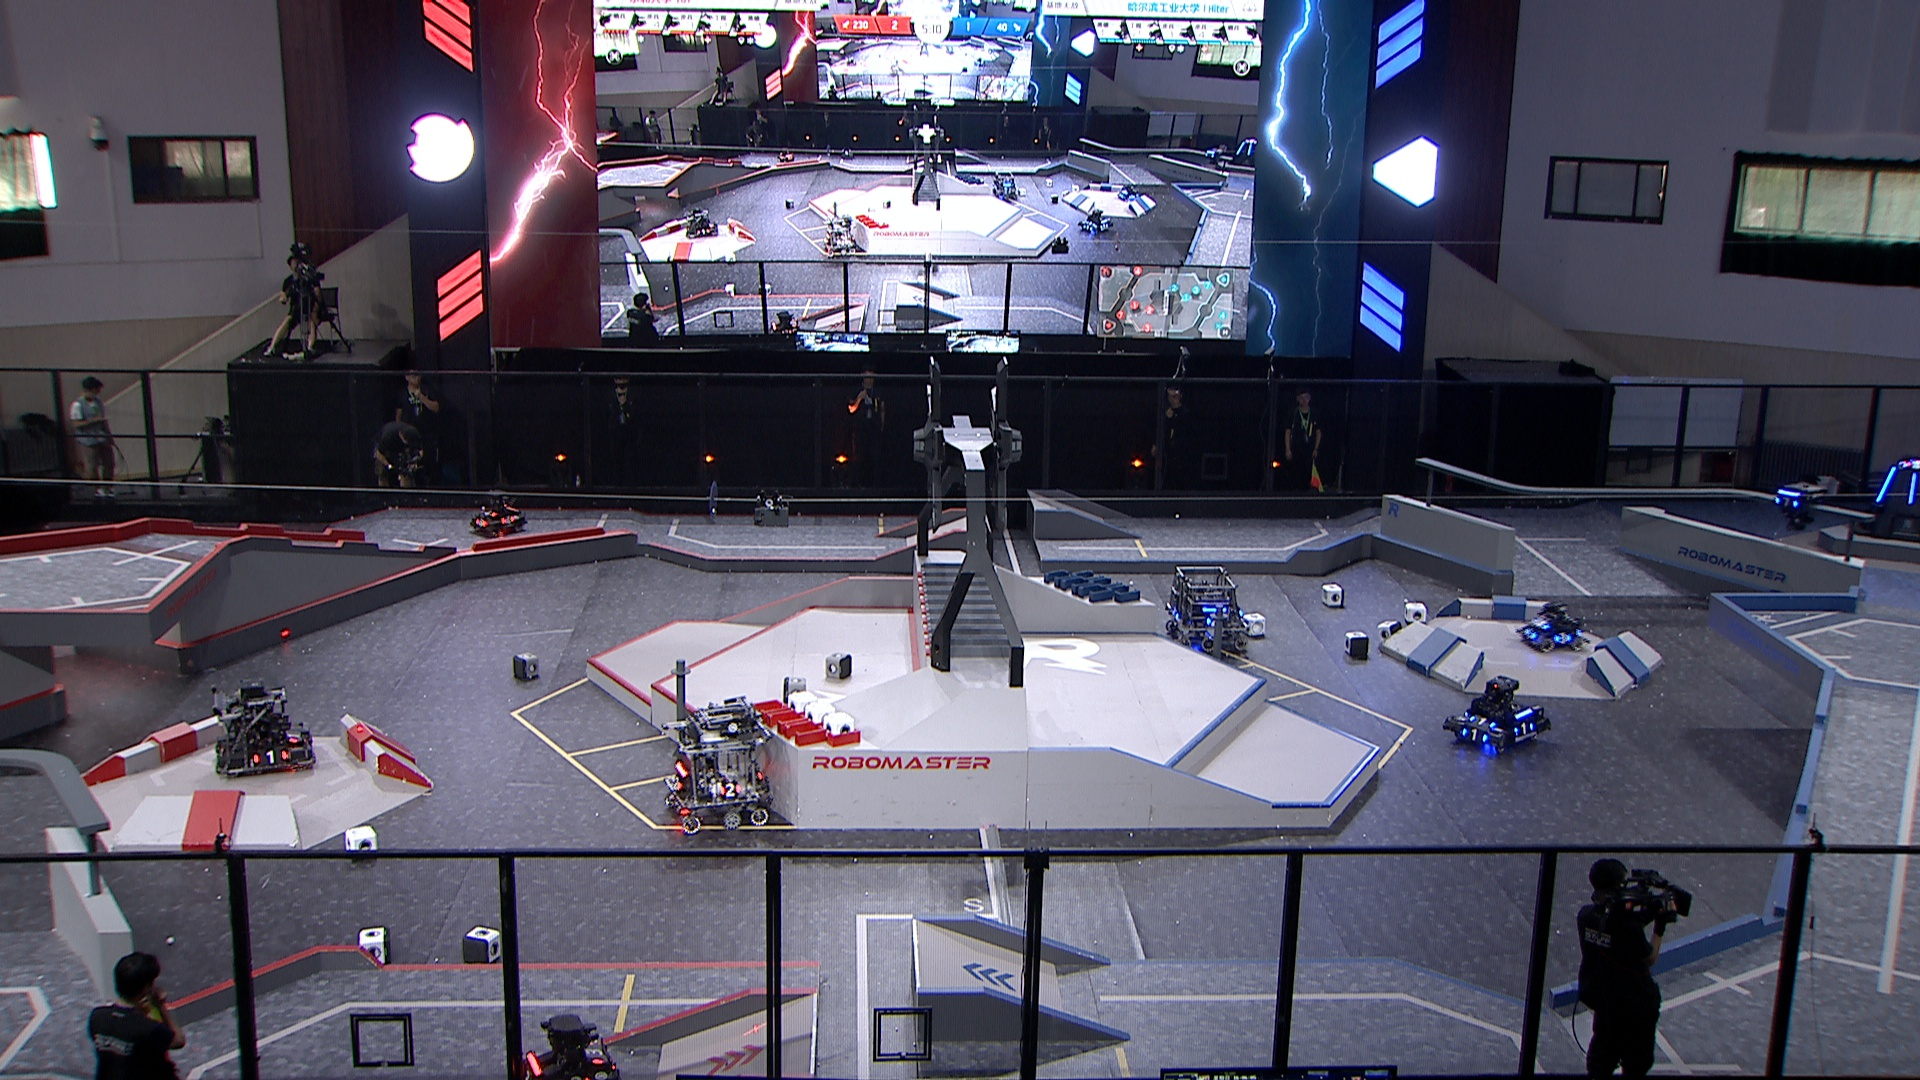armor: (1874, 465, 1898, 502), (253, 750, 285, 766), (585, 1044, 605, 1064), (1462, 727, 1486, 742), (1907, 469, 1917, 504), (1513, 721, 1534, 738), (520, 1062, 537, 1080), (1775, 495, 1797, 508), (1470, 716, 1494, 728), (719, 783, 740, 794), (1205, 615, 1220, 629), (1556, 632, 1572, 645), (670, 774, 680, 793), (287, 731, 302, 744), (1524, 624, 1538, 638), (500, 514, 516, 526), (301, 735, 311, 752), (1532, 616, 1548, 626), (472, 516, 487, 526), (483, 506, 495, 518)
base: (1849, 447, 1920, 538)
car: (654, 692, 774, 831), (204, 678, 315, 777), (1443, 675, 1557, 757), (1162, 562, 1253, 657), (516, 1015, 621, 1080), (1516, 599, 1589, 657), (469, 491, 527, 538)
ignore: (818, 211, 858, 257), (684, 204, 717, 240), (989, 169, 1025, 202), (1077, 204, 1112, 235), (1232, 136, 1261, 167), (1117, 181, 1145, 204), (1204, 142, 1221, 164), (1898, 458, 1920, 472)
watcher: (1771, 477, 1822, 531)
